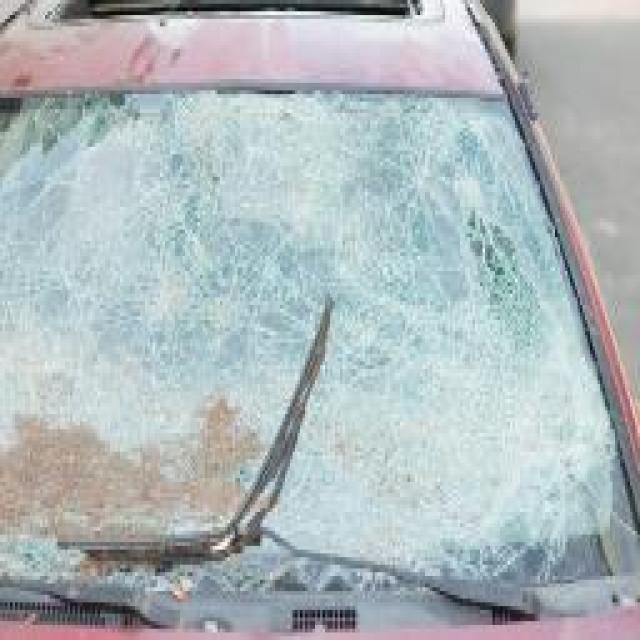Windshield: (2, 90, 638, 587)
